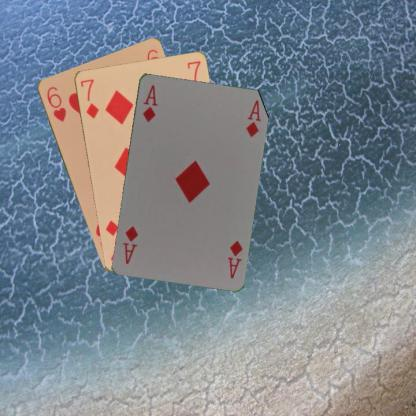6h: (44, 83, 67, 123)
7d: (77, 76, 100, 120)
Ad: (224, 238, 244, 279), (139, 82, 158, 123)
